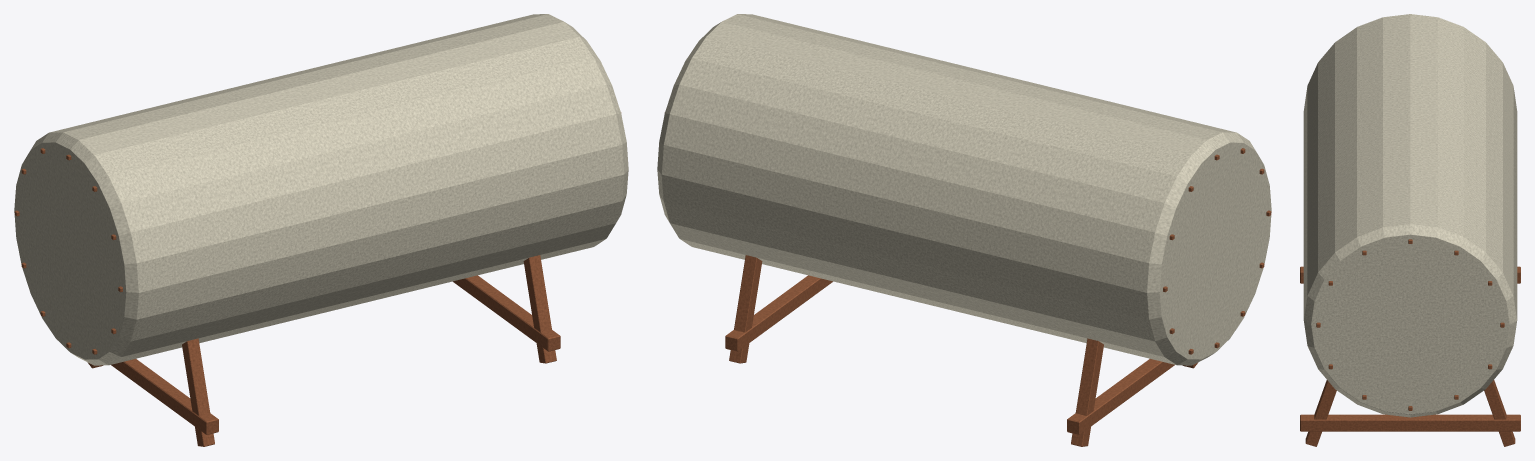
File: WHTTANK2_lod0.glb
3 renders of one model, left to right at view 1: azimuth 30°, elevation 25°; view 2: azimuth 150°, elevation 25°; view 3: azimuth 270°, elevation 25°, orthographic. The views are drawn at different scales.
Visible parts, largest first — view 1: WHTTANK2_LOD0; view 2: WHTTANK2_LOD0; view 3: WHTTANK2_LOD0.
Part boxes in pixels (box(x1,y1,x2,y2)): WHTTANK2_LOD0: box(14, 14, 628, 446); WHTTANK2_LOD0: box(657, 14, 1271, 446); WHTTANK2_LOD0: box(1300, 14, 1520, 446).
Bounding box in the file's own units: 7.08 × 3.77 × 3.
2 materials, 2 textured.
